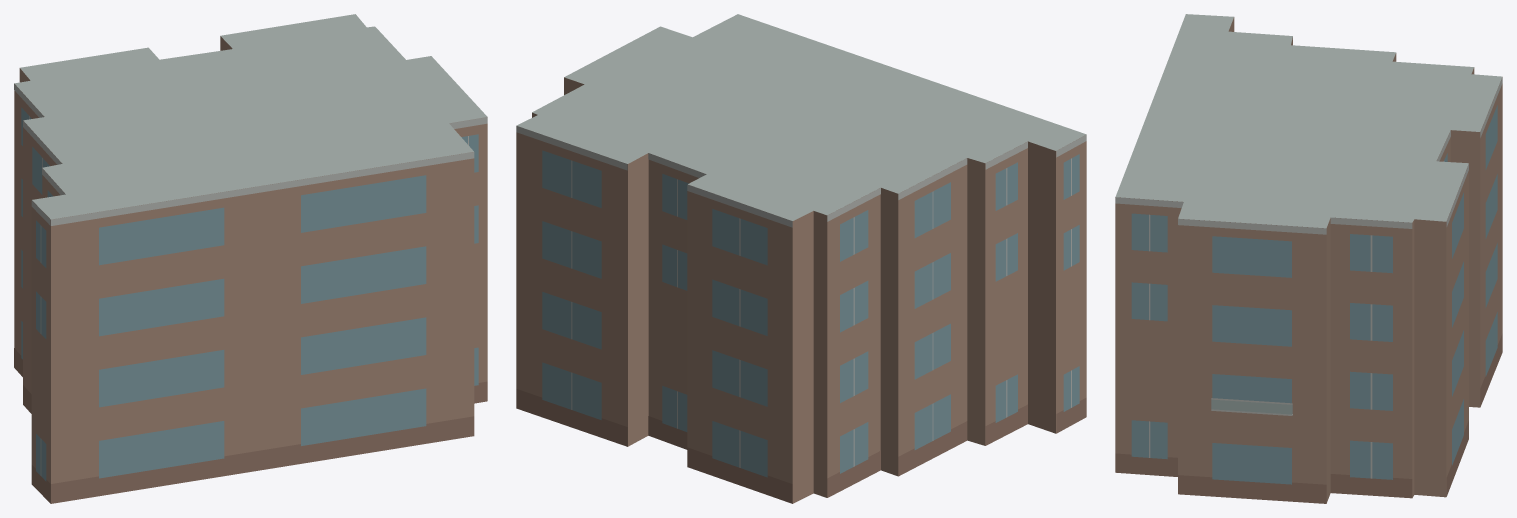
File: survey-upis-33016739.glb
3 views of the same model, side by side, from view 1: azimuth 30°, elevation 25°; view 2: azimuth 150°, elevation 25°; view 3: azimuth 270°, elevation 25° (orthographic). The views are drawn at different scales.
Visible parts, largest first — view 1: survey-upis-33016739.tmp; view 2: survey-upis-33016739.tmp; view 3: survey-upis-33016739.tmp.
Part boxes in pixels (box(x1,y1,x2,y2)): survey-upis-33016739.tmp: box(14, 14, 487, 503); survey-upis-33016739.tmp: box(516, 14, 1086, 503); survey-upis-33016739.tmp: box(1115, 14, 1502, 503).
Bounding box in the file's own units: 17.52 × 10.5 × 13.38.
